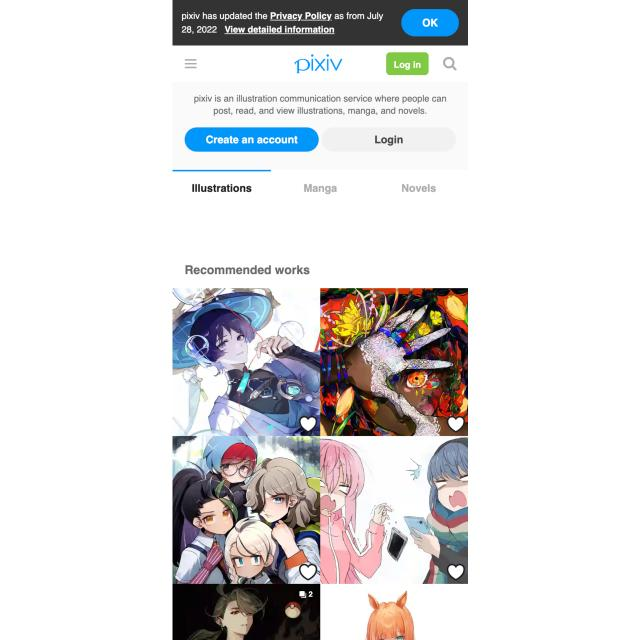logo: (292, 51, 343, 74)
navigation: (183, 56, 199, 71)
